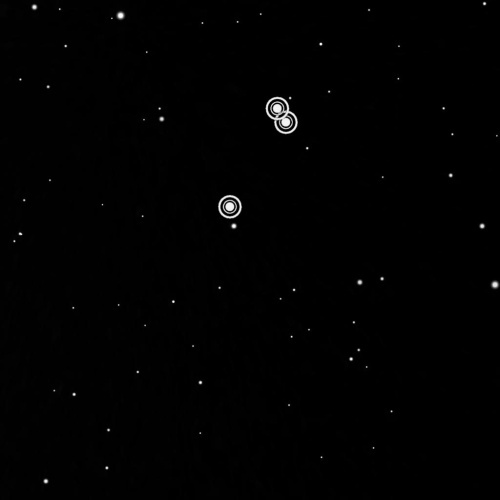canis_minor: (213, 93, 304, 223)
